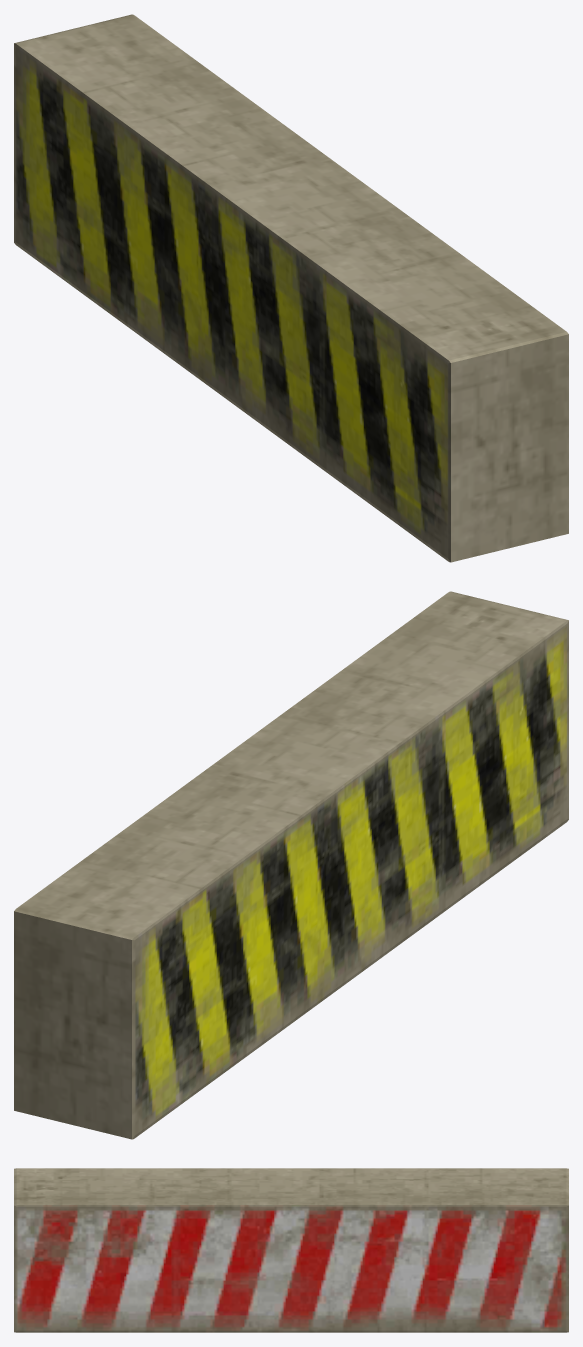
File: roadblockwide.fbx
3 views of the same model, one above another, from view 1: azimuth 30°, elevation 25°; view 2: azimuth 150°, elevation 25°; view 3: azimuth 270°, elevation 25° (orthographic). The views are drawn at different scales.
Parts seen in each view (by area): view 1: roadblockwide; view 2: roadblockwide; view 3: roadblockwide.
Part boxes in pixels (<box>): roadblockwide: <box>14,14,568,562</box>; roadblockwide: <box>14,591,568,1139</box>; roadblockwide: <box>14,1168,568,1332</box>.
Size of the model in its own units: 101 by 164 by 644.
